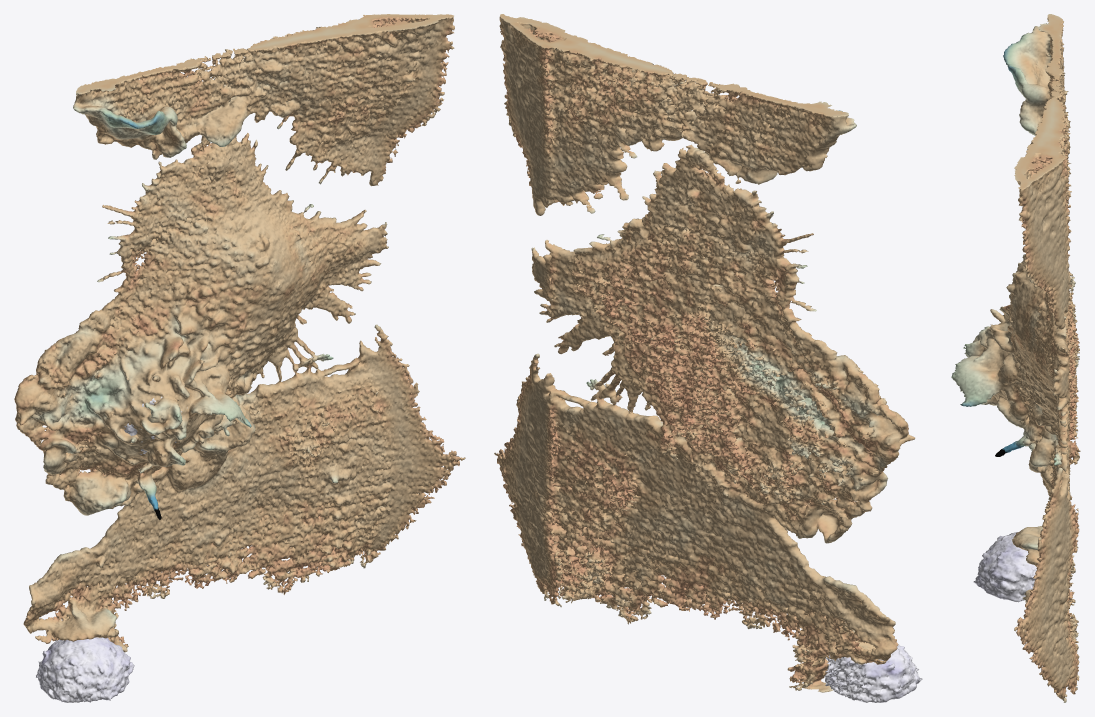
Rendered from Surfaces_18.glb.
3 views of the same model, side by side, from view 1: azimuth 30°, elevation 25°; view 2: azimuth 150°, elevation 25°; view 3: azimuth 270°, elevation 25° (orthographic).
Parts seen in each view (by area): view 1: surface (×2); view 2: surface (×2); view 3: surface (×2).
Boxes of the visible parts, left/top/right/bottom form: surface (×2): left=14, top=14, right=465, bottom=702; surface (×2): left=494, top=14, right=922, bottom=702; surface (×2): left=951, top=14, right=1080, bottom=702.
Bounding box in the file's own units: 598 × 764 × 156.
